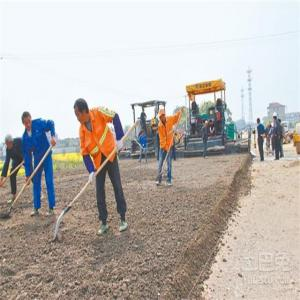none: (74, 99, 91, 128), (22, 109, 33, 132), (4, 134, 15, 153)
white: (273, 113, 278, 122)
yellow: (158, 108, 167, 125)
